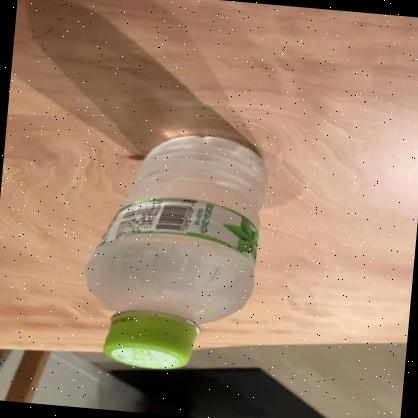bottle: (74, 123, 273, 380)
cap: (96, 309, 204, 376)
label: (89, 193, 258, 262)
